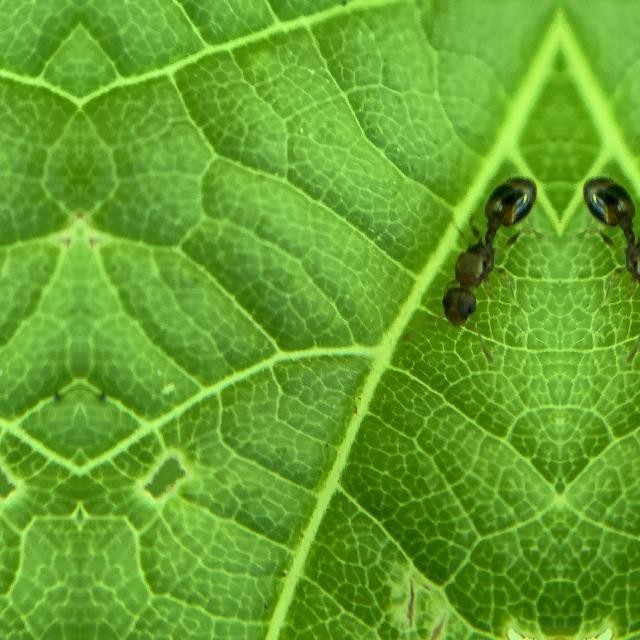Temnothorax: (418, 163, 558, 349), (560, 163, 640, 349)
